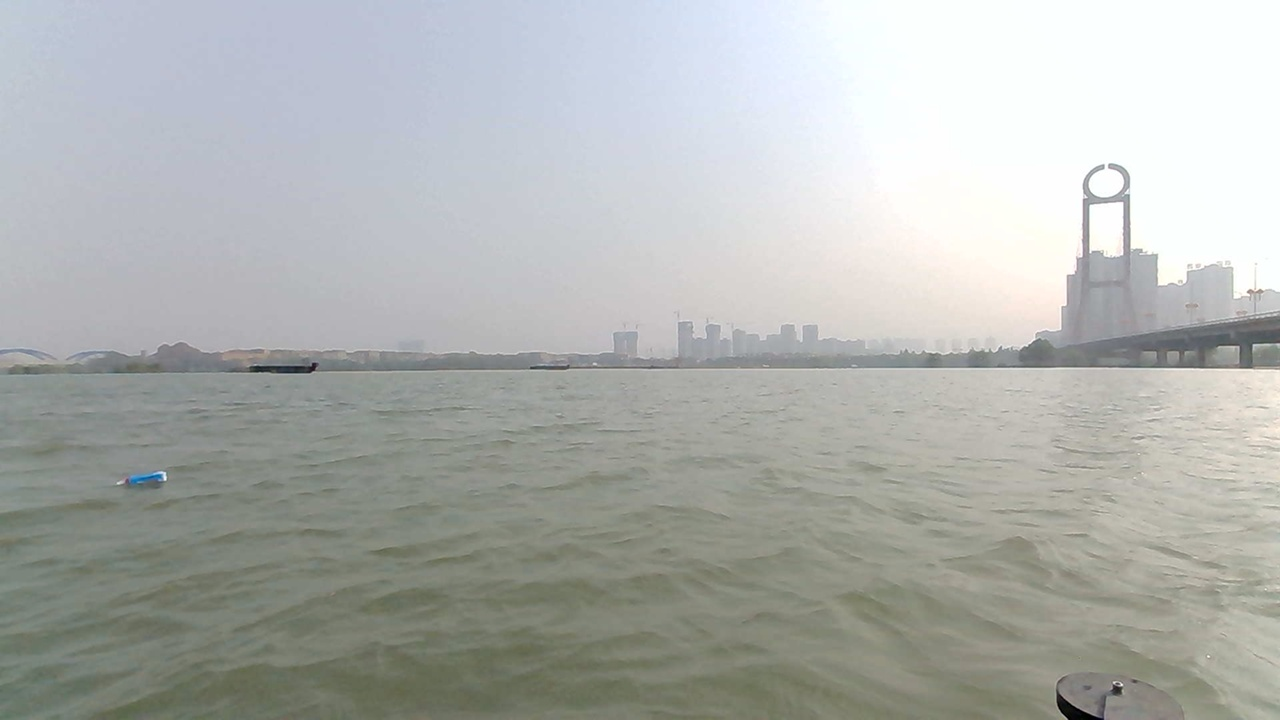bottle: (114, 466, 177, 497)
